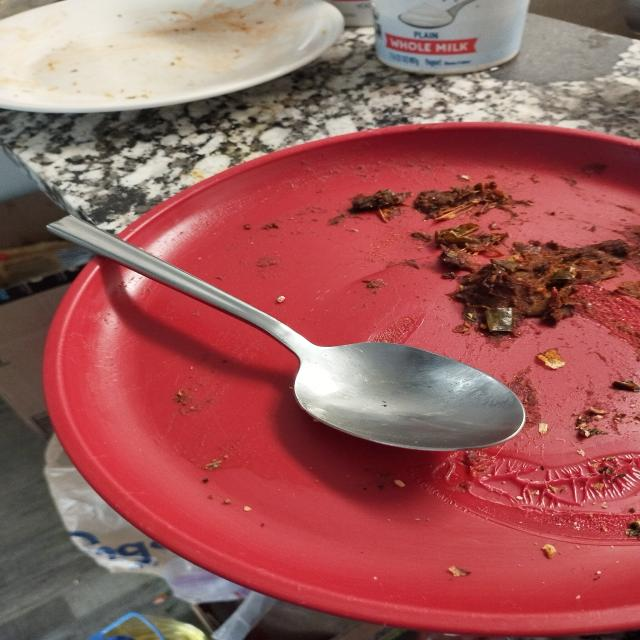Spoon: (17, 207, 552, 468)
